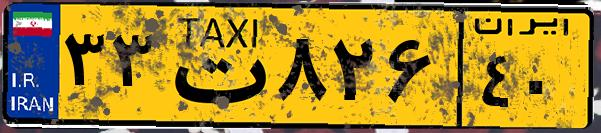0: (525, 38, 570, 115)
2: (330, 28, 385, 110)
3: (57, 26, 110, 100), (110, 28, 158, 98)
4: (475, 38, 525, 113)
6: (385, 28, 445, 110)
8: (270, 28, 330, 110)
ت: (158, 12, 270, 120)
